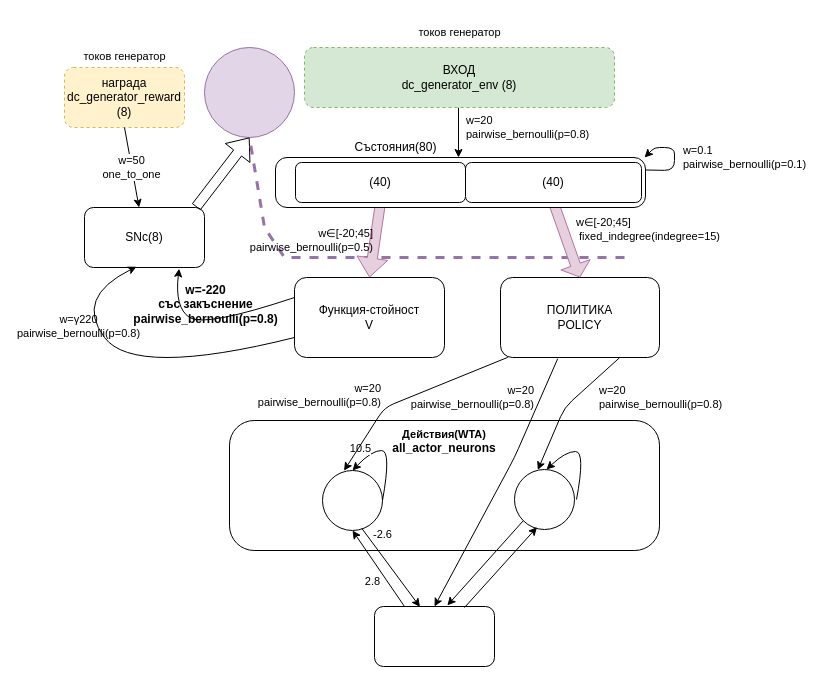
Image size: 823x684. Some labels were removed from this diagram. Here are the shapes that lost their labels. From the top down, the centre of each, then its label:
the point at 249,92: ОБЕМЕН ТРАНСМИТЕР
the point at 352,500: ЛЯВО (50)
the point at 544,499: ДЯСНО (50)
the point at 434,636: wta_inh (50)
